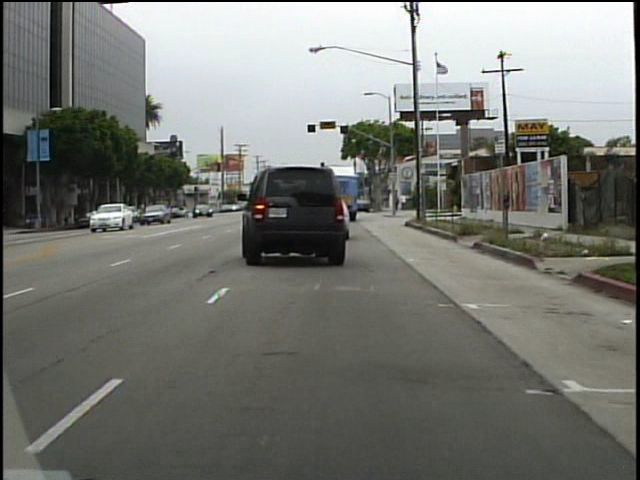person: (393, 189, 401, 214), (400, 190, 409, 212)
